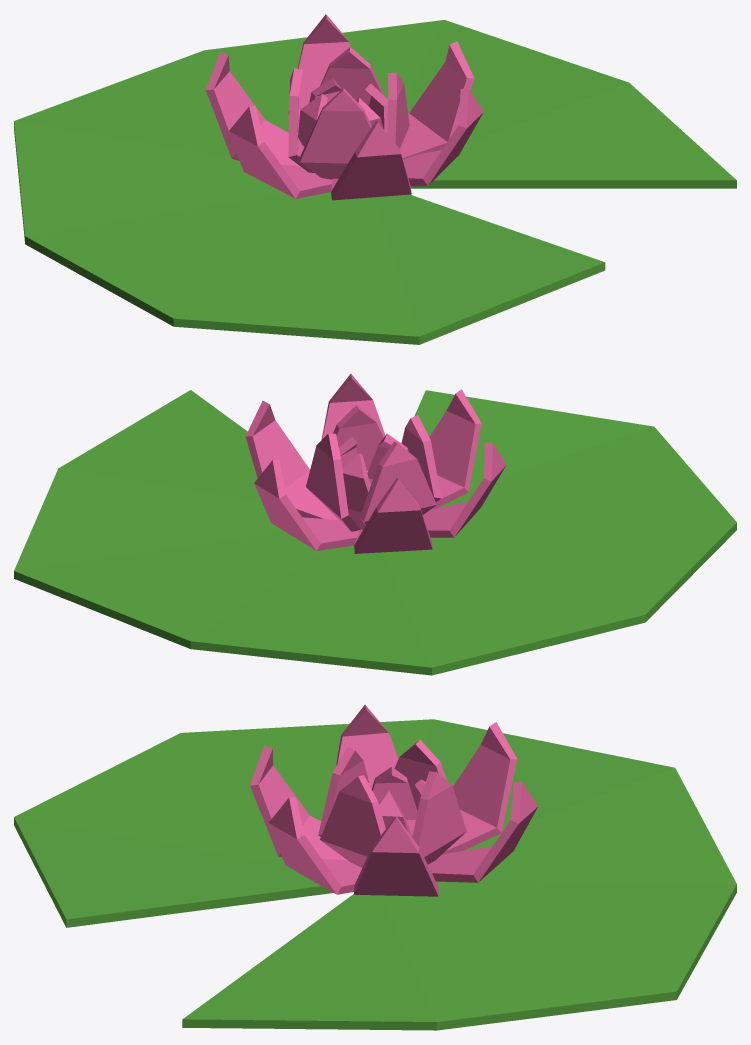
The model's file is water-lily.glb.
The picture shows the model from 3 angles, top to bottom: view 1: azimuth 30°, elevation 25°; view 2: azimuth 150°, elevation 25°; view 3: azimuth 270°, elevation 25°; orthographic projection. The views are drawn at different scales.
Visible parts, largest first — view 1: Lilypad; view 2: Lilypad; view 3: Lilypad.
Boxes of the visible parts, x1,y1,x2,y2 form: Lilypad: (14,14,736,344); Lilypad: (14,374,736,675); Lilypad: (14,705,736,1030).
Size of the model in its own units: 1.8 by 0.3312 by 1.78.
